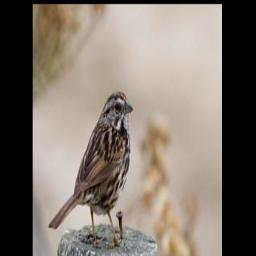Sparrow: (47, 87, 134, 248)
